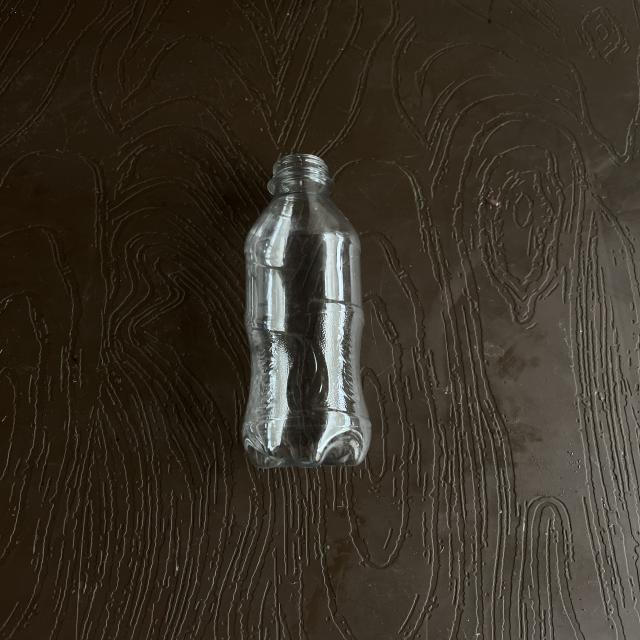PET_ClearBottle: (231, 152, 380, 632)
